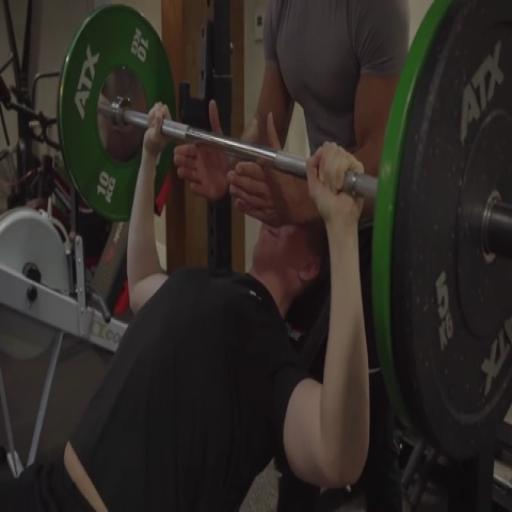exercise: (0, 99, 373, 510)
